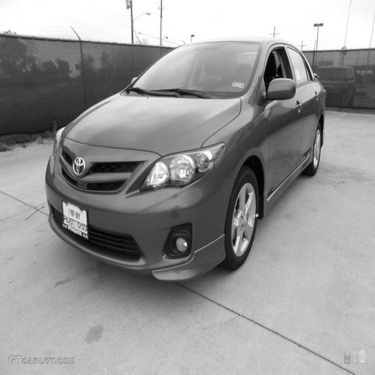car: (33, 25, 332, 293), (315, 64, 357, 113)
